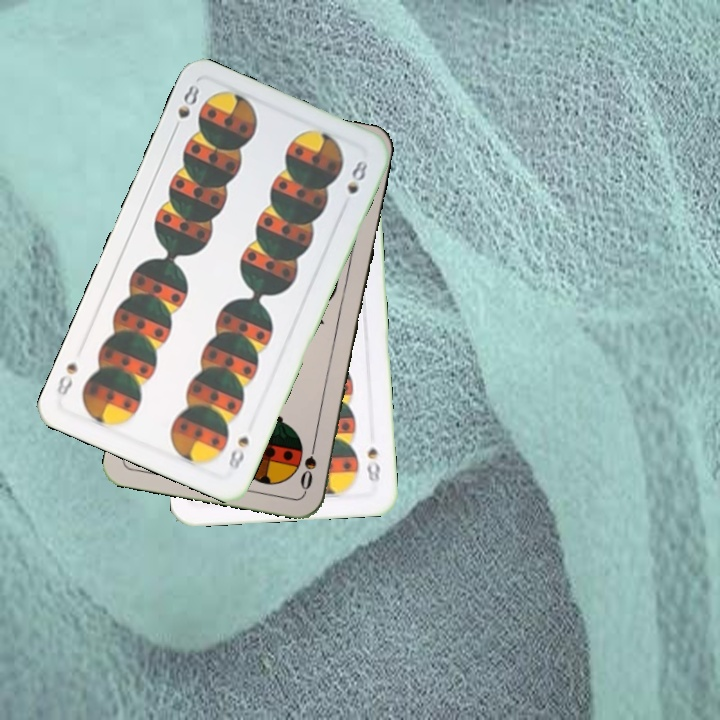S8: (168, 81, 202, 136), (224, 432, 252, 473), (362, 443, 383, 485)
SO: (296, 435, 319, 494)
